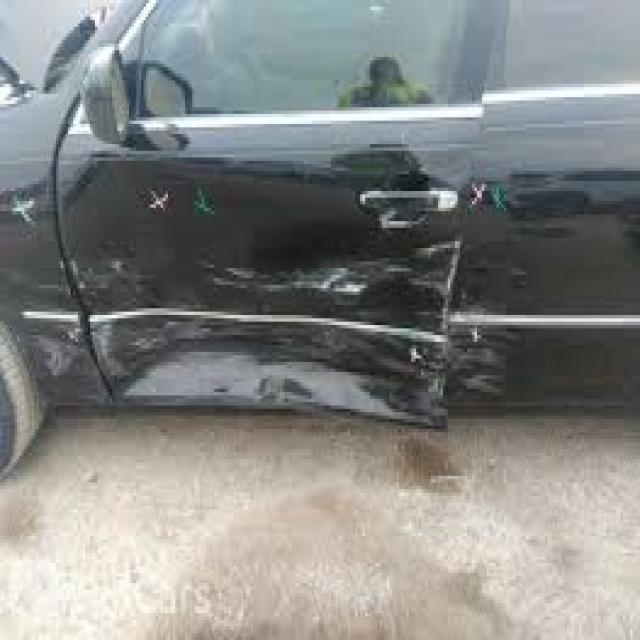damaged-door: (61, 0, 474, 429)
